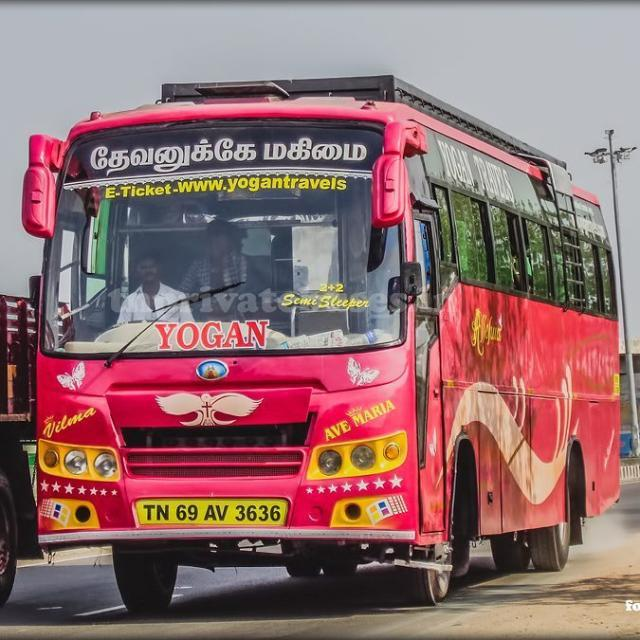Bus: (18, 71, 624, 607)
